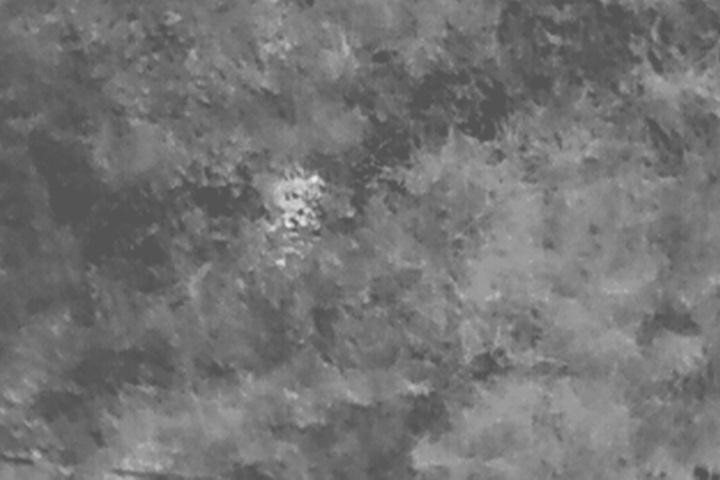landmine: (259, 156, 326, 239)
